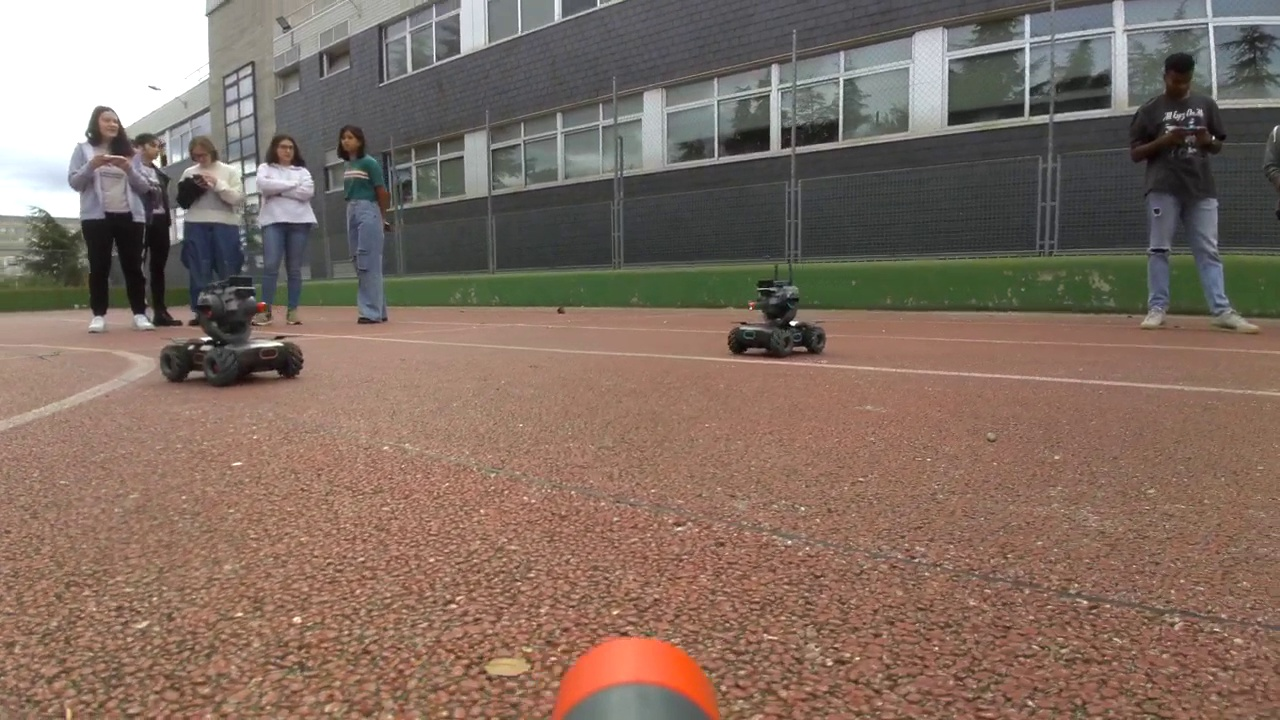robot: (161, 276, 304, 388), (729, 281, 825, 358)
